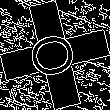O_E: (25, 28, 85, 82)
